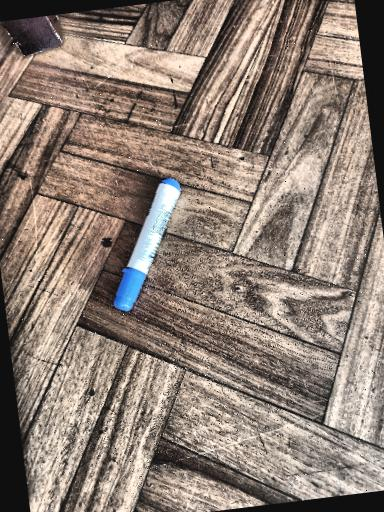marcador azul: (113, 178, 180, 311)
